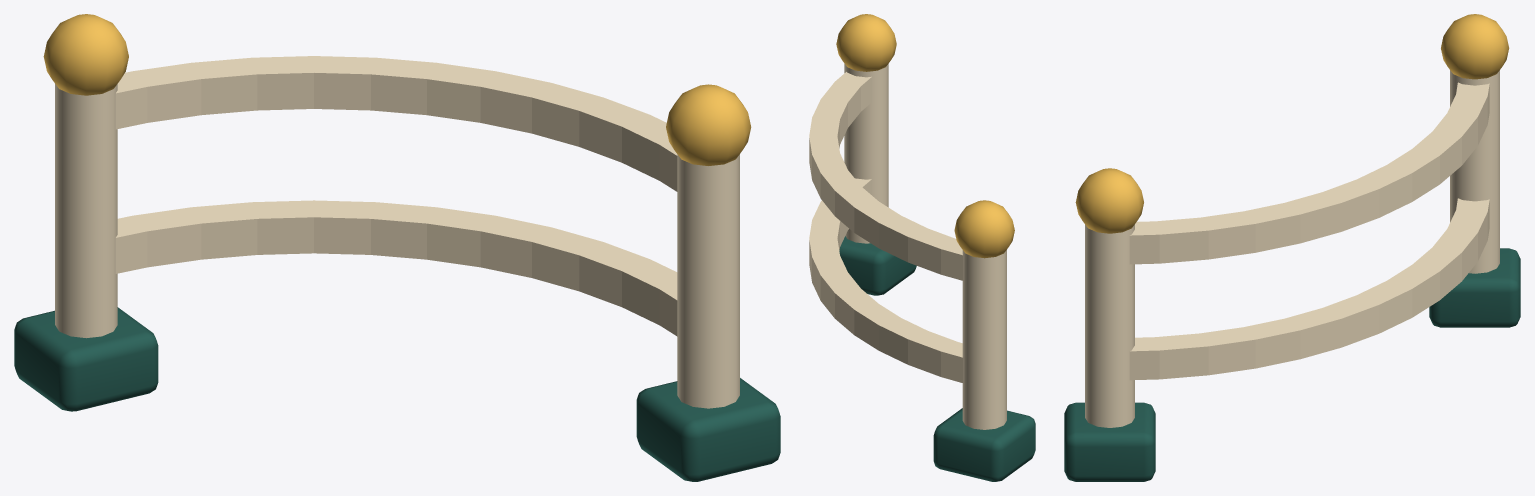
Rendered from athlete_rail_corner.glb.
3 renders of one model, left to right at view 1: azimuth 30°, elevation 25°; view 2: azimuth 150°, elevation 25°; view 3: azimuth 270°, elevation 25°, orthographic. The views are drawn at different scales.
Visible parts, largest first — view 1: athlete_rail_corner__cream, athlete_rail_corner__ink, athlete_rail_corner__gold; view 2: athlete_rail_corner__cream, athlete_rail_corner__ink, athlete_rail_corner__gold; view 3: athlete_rail_corner__cream, athlete_rail_corner__ink, athlete_rail_corner__gold.
Part boxes in pixels (bbox=[...]): athlete_rail_corner__cream: bbox=[55, 56, 739, 408]; athlete_rail_corner__ink: bbox=[14, 307, 780, 481]; athlete_rail_corner__gold: bbox=[43, 14, 751, 165]; athlete_rail_corner__cream: bbox=[809, 63, 1006, 429]; athlete_rail_corner__ink: bbox=[839, 236, 1035, 481]; athlete_rail_corner__gold: bbox=[836, 14, 1014, 258]; athlete_rail_corner__cream: bbox=[1085, 70, 1499, 427]; athlete_rail_corner__ink: bbox=[1064, 248, 1520, 481]; athlete_rail_corner__gold: bbox=[1075, 14, 1509, 233].
Size of the model in its own units: 1 by 0.715 by 1.
